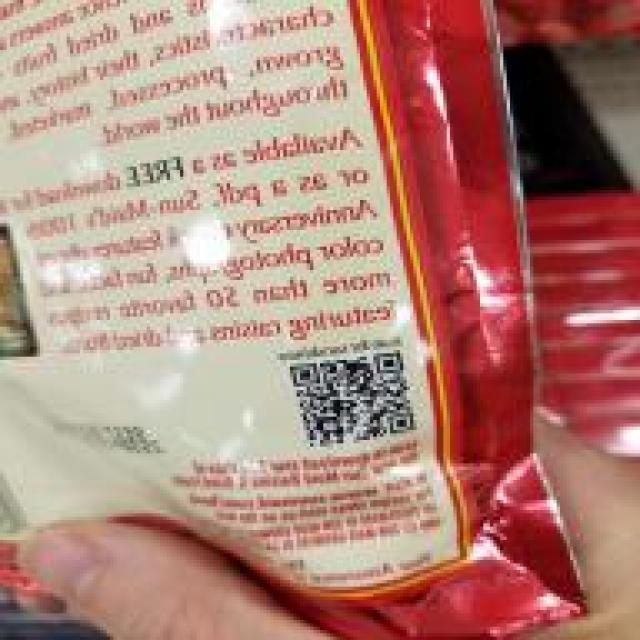qr_code: (288, 350, 416, 449)
